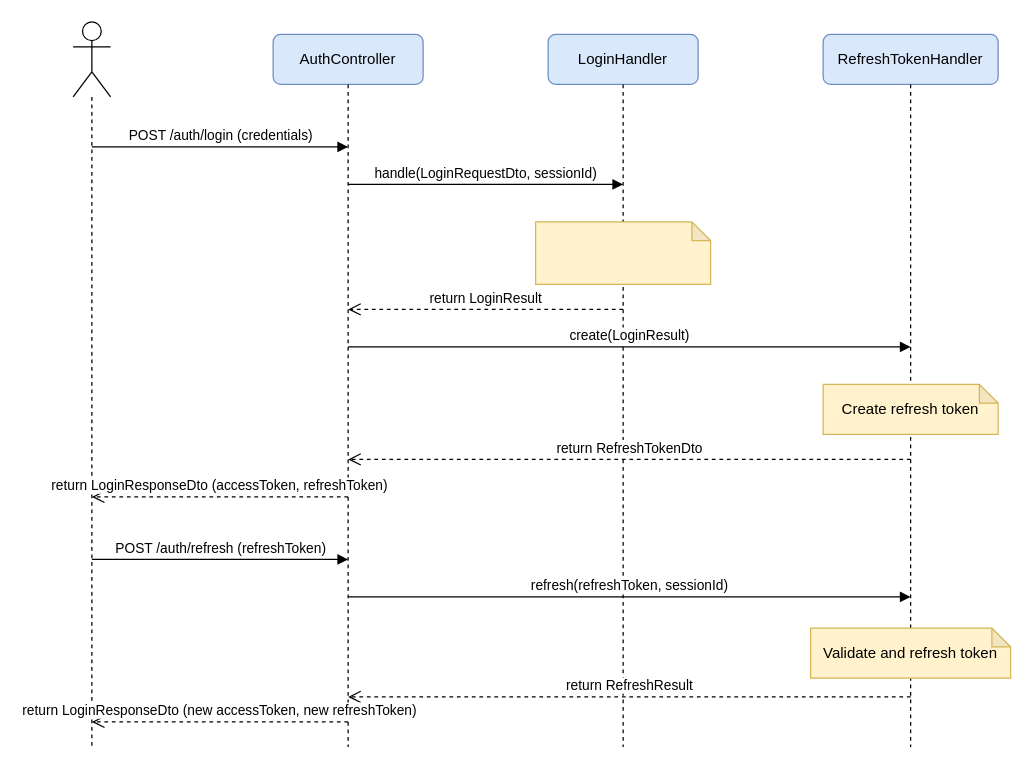
Some shapes in this 1033 by 770 pixel diagram are drawn without their labels. Here are the shapes that lost their labels. From the top down, the centre of each, then its label:
At point (91, 59): "User".
At point (622, 252): "Authenticate user and generate access token".
